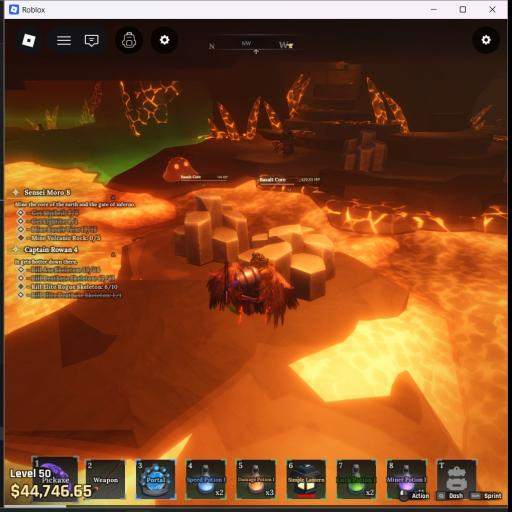player: (207, 252, 298, 327)
rock: (238, 224, 335, 300), (175, 191, 248, 265), (341, 130, 387, 171)
